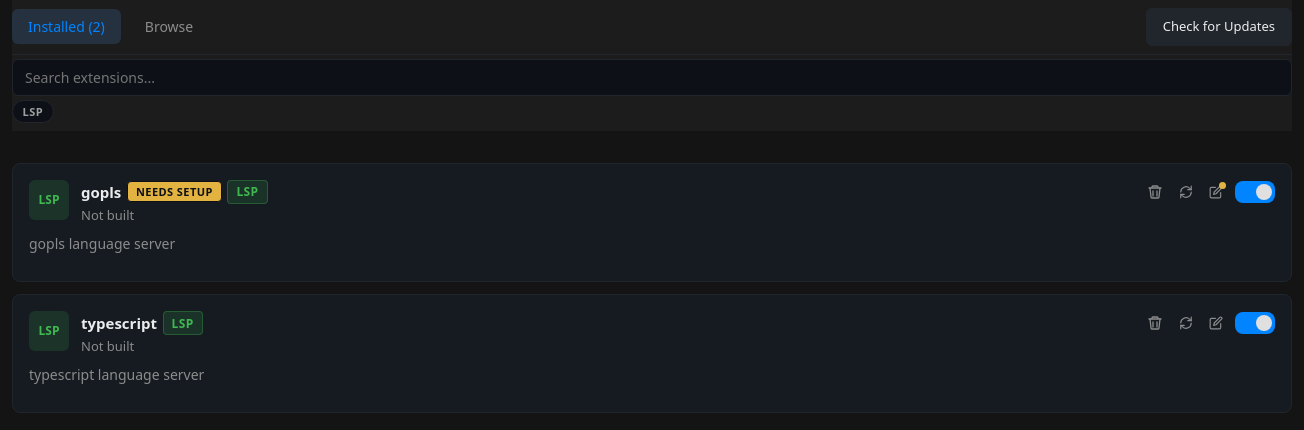
Test case: Settings → Extensions: saying what an install will need afterwards › says it for a local extension, whose declaration is in the manifest shape
This screenshot has width=1304, height=430.
Expected: the text "gopls" is shown, [81, 180, 121, 203]
What coordinates should you click on to do the following:
click the button "Browse"
I would click on:
 (169, 27)
Its box is [129, 9, 209, 44].
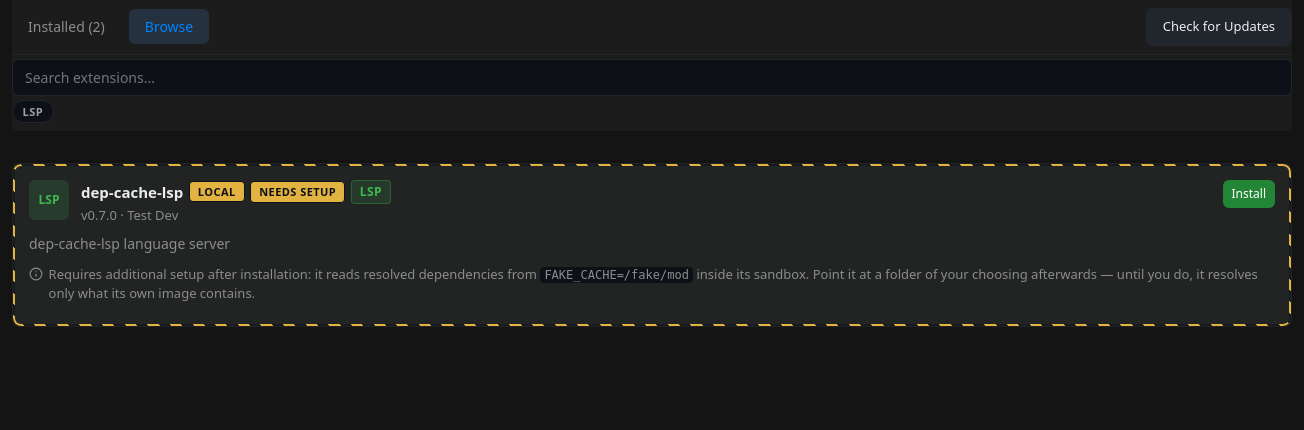
Expected: the text with class "needs-setup-badge" reads "Needs setup", [259, 184, 336, 198]
Now the element with class "registry-card" is shown, box [12, 163, 1292, 327]
Now the element with class "ext-needs-setup-note" shows "FAKE_CACHE=/fake/mod", box [544, 268, 689, 282]
